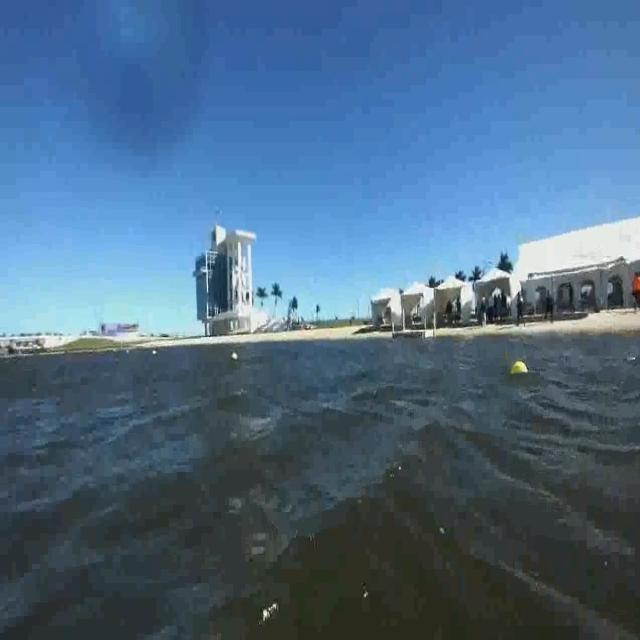yellow-buoy: (512, 359, 528, 374)
